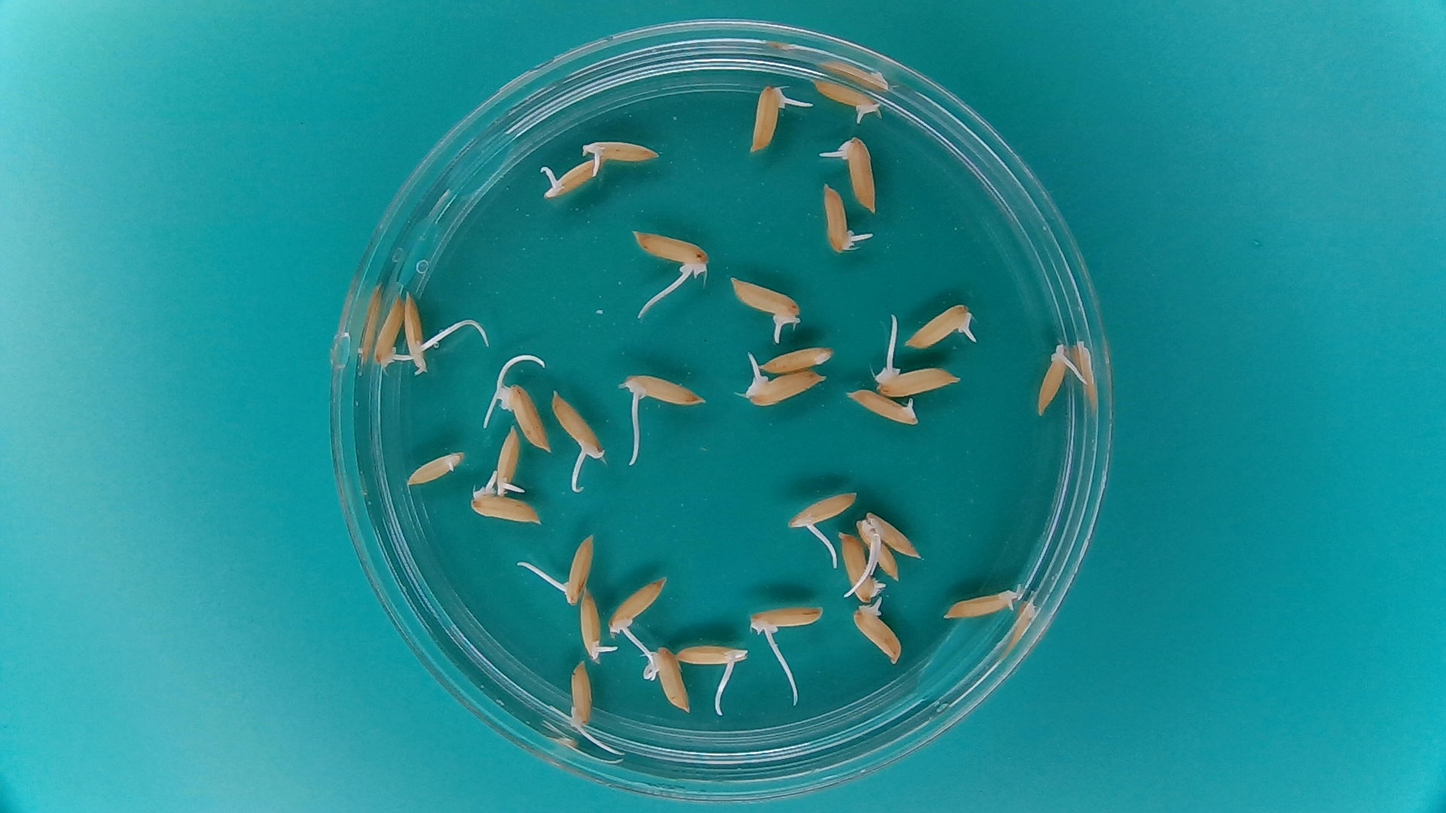no: (404, 445, 468, 488), (757, 343, 838, 376)
yes: (901, 300, 982, 353), (501, 376, 554, 453), (606, 573, 667, 638), (633, 230, 711, 279), (549, 388, 603, 456), (731, 276, 802, 327), (856, 508, 924, 560), (850, 601, 905, 665), (841, 386, 923, 428), (746, 602, 828, 643), (870, 362, 962, 397), (836, 528, 880, 599), (744, 369, 828, 406), (749, 82, 789, 159), (648, 644, 690, 716), (1034, 342, 1073, 416), (789, 488, 859, 528), (537, 157, 602, 200), (858, 518, 901, 583), (813, 77, 881, 117), (623, 371, 701, 405), (819, 185, 856, 255), (563, 529, 596, 607), (843, 133, 875, 213), (468, 489, 537, 525), (939, 589, 1018, 620), (370, 292, 402, 367), (402, 288, 429, 375), (579, 140, 664, 166), (578, 585, 608, 657), (677, 641, 752, 669), (495, 426, 525, 495), (571, 659, 597, 733)
